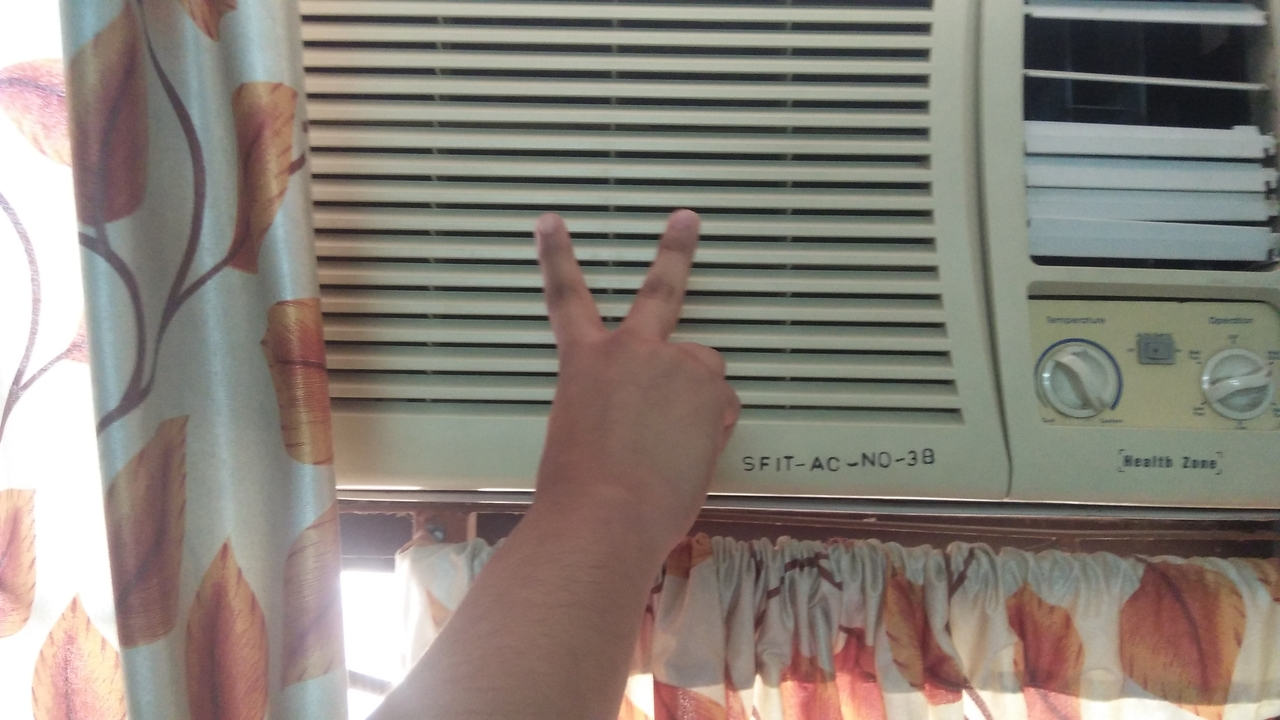fingertip: (654, 198, 708, 244), (528, 206, 578, 250)
